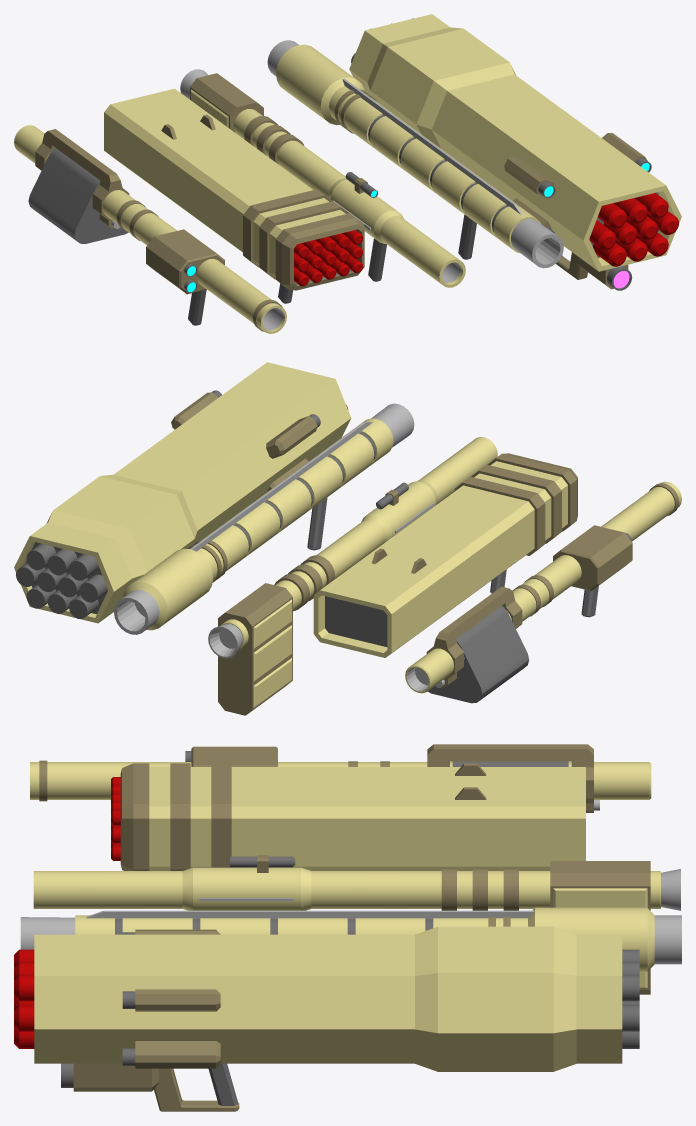
The model's file is MainShoulderWeapons.fbx.
The picture shows the model from 3 angles, top to bottom: view 1: azimuth 30°, elevation 25°; view 2: azimuth 150°, elevation 25°; view 3: azimuth 270°, elevation 25°; orthographic projection. The views are drawn at different scales.
Parts seen in each view (by area): view 1: pCube27, Hailfire, pCylinder30, pCylinder31, Lock_Launcher, pCylinder90, pCube106, pCube104, pCube49, pCube50, pCube164, pCube48 (+8 smaller); view 2: pCube27, Hailfire, pCylinder30, pCylinder31, pCube49, Lock_Launcher, pCylinder90, pCube106, pCube104, pCube50, pCube164, pCube48 (+5 smaller); view 3: pCube27, Hailfire, pCylinder31, pCylinder30, Lock_Launcher, pCube49, pCube162 (×2), pCube50, pCube104, pCube161, pCube106, pCube28 (+6 smaller).
Boxes of the visible parts, bbox=[...] form: pCube27: bbox=[349, 14, 681, 271]; Hailfire: bbox=[104, 88, 364, 290]; pCylinder30: bbox=[267, 40, 563, 268]; pCylinder31: bbox=[180, 69, 465, 287]; Lock_Launcher: bbox=[14, 125, 286, 333]; pCylinder90: bbox=[28, 148, 128, 243]; pCube106: bbox=[146, 229, 224, 294]; pCube104: bbox=[35, 129, 129, 228]; pCube49: bbox=[190, 73, 263, 132]; pCube50: bbox=[342, 78, 522, 214]; pCube164: bbox=[504, 156, 554, 196]; pCube48: bbox=[458, 214, 476, 259]; pCube27: bbox=[14, 362, 351, 623]; Hailfire: bbox=[313, 453, 577, 657]; pCylinder30: bbox=[114, 403, 414, 634]; pCylinder31: bbox=[208, 437, 497, 658]; pCube49: bbox=[218, 583, 292, 715]; Lock_Launcher: bbox=[405, 481, 681, 693]; pCylinder90: bbox=[427, 606, 529, 703]; pCube106: bbox=[553, 525, 632, 590]; pCube104: bbox=[426, 586, 522, 687]; pCube50: bbox=[190, 422, 372, 551]; pCube164: bbox=[266, 416, 317, 458]; pCube48: bbox=[307, 497, 327, 550]; pCube27: bbox=[34, 926, 622, 1071]; Hailfire: bbox=[120, 763, 585, 870]; pCylinder31: bbox=[33, 867, 680, 910]; pCylinder30: bbox=[20, 907, 681, 971]; Lock_Launcher: bbox=[30, 760, 651, 801]; pCube49: bbox=[550, 861, 650, 994]; pCube162 (×2): bbox=[135, 989, 220, 1068]; pCube50: bbox=[86, 910, 534, 919]; pCube104: bbox=[427, 744, 593, 812]; pCube161: bbox=[73, 1063, 158, 1091]; pCube106: bbox=[191, 746, 277, 766]; pCube28: bbox=[154, 1068, 239, 1111].
Size of the model in its own units: 19.86 by 5.65 by 20.45.
